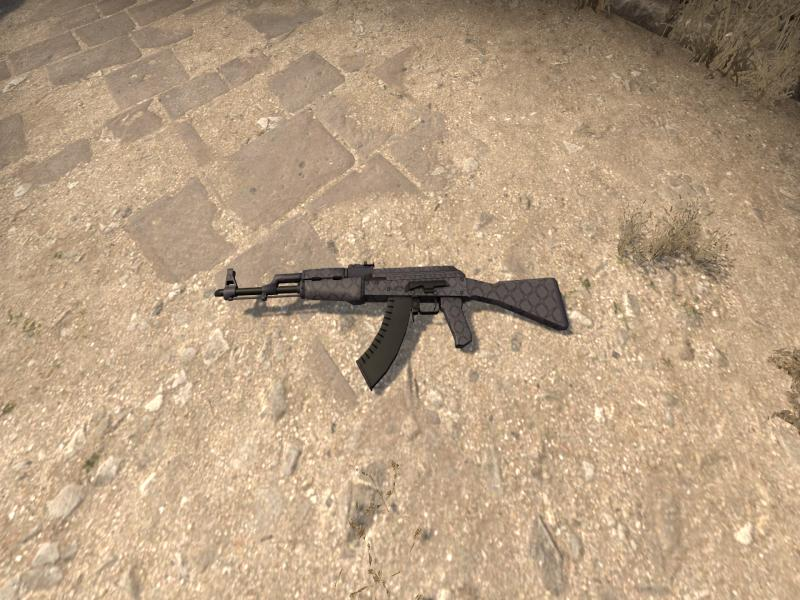AK47: (214, 262, 569, 388)
